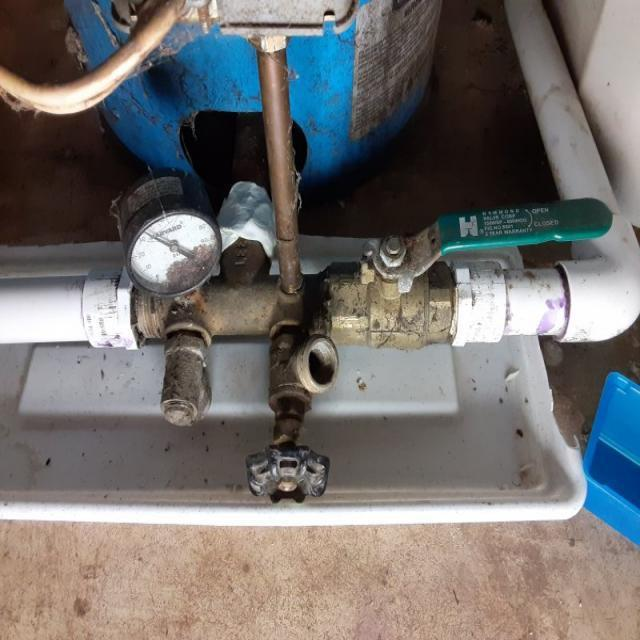opened_valve: (323, 197, 614, 351)
